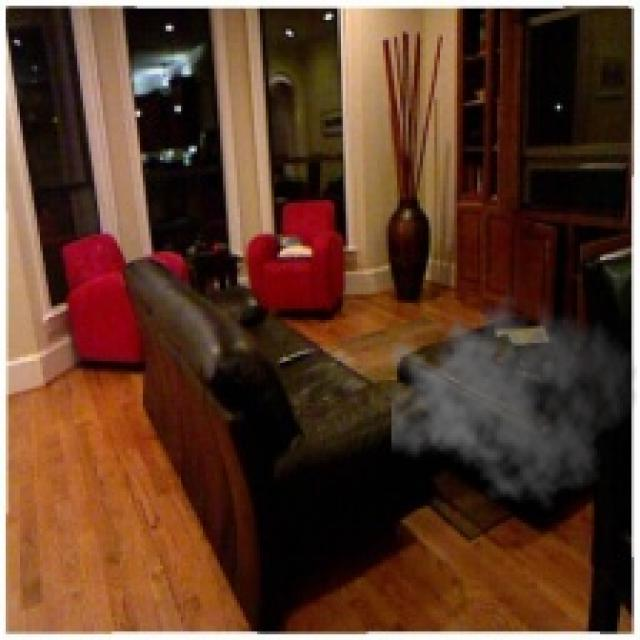smoke: (392, 277, 637, 512)
